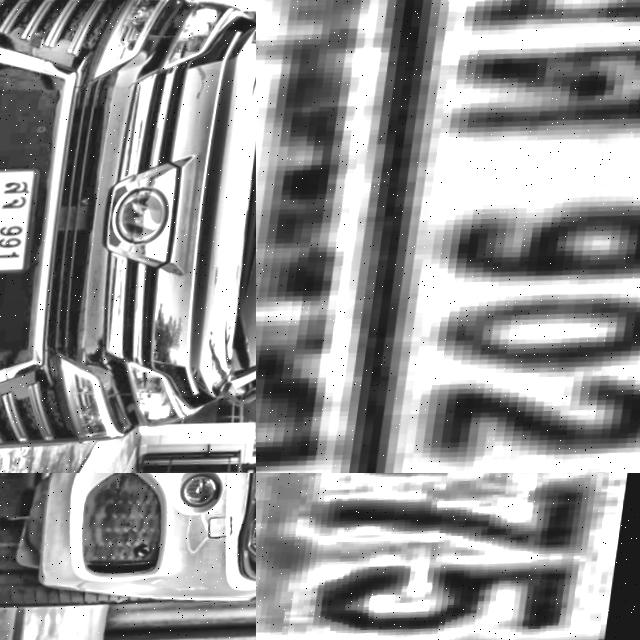license-plate: (256, 0, 640, 473), (256, 473, 640, 640), (0, 166, 45, 276)
